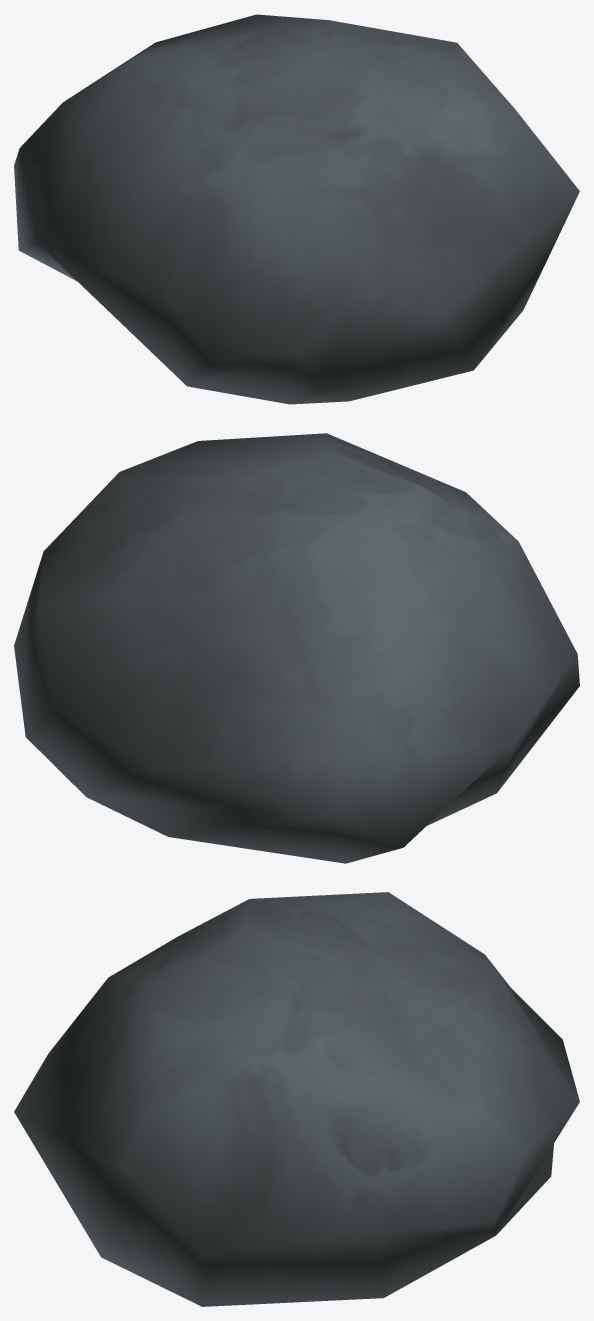
The model's file is rockLarge.fbx.
The picture shows the model from 3 angles, top to bottom: view 1: azimuth 30°, elevation 25°; view 2: azimuth 150°, elevation 25°; view 3: azimuth 270°, elevation 25°; orthographic projection. The views are drawn at different scales.
Parts seen in each view (by area): view 1: Cube; view 2: Cube; view 3: Cube.
Boxes of the visible parts, x1,y1,x2,y2 form: Cube: [14, 14, 579, 404]; Cube: [14, 433, 579, 863]; Cube: [14, 892, 579, 1306].
Bounding box in the file's own units: 474 × 293 × 504.
